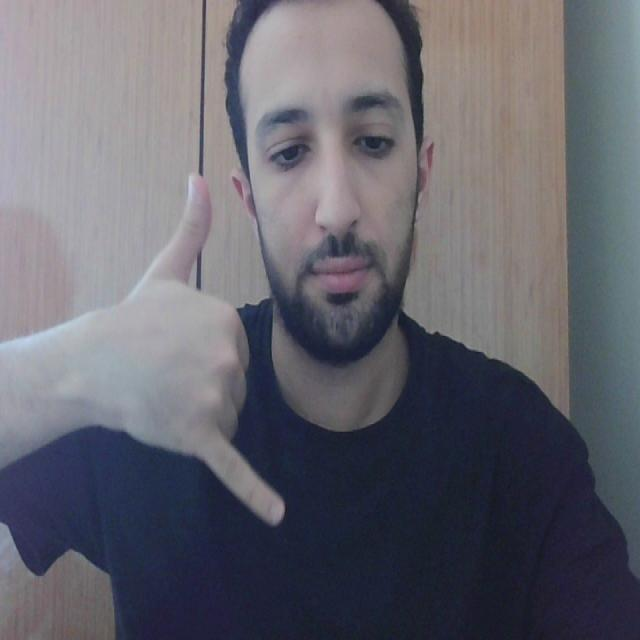Telefon: (128, 167, 305, 539)
